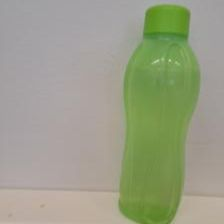bottle: (109, 1, 202, 224)
